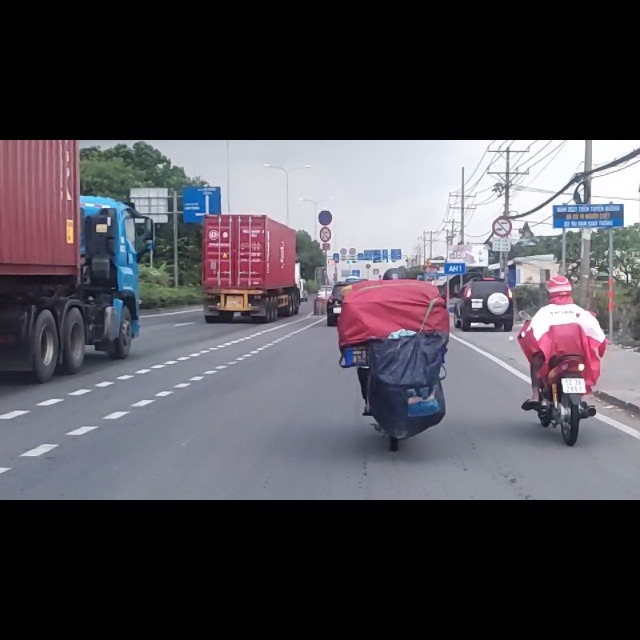bien_chi_dan: (492, 137, 513, 172), (317, 123, 334, 152), (320, 155, 331, 181)
